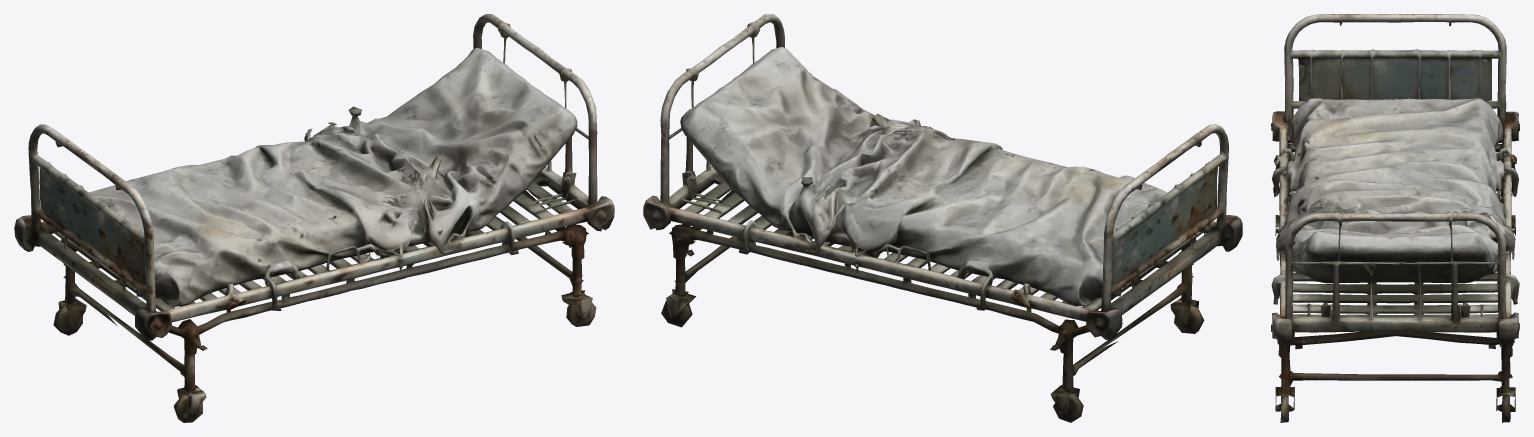
File: hospital_bed.glb
The picture shows the model from 3 angles, left to right: view 1: azimuth 30°, elevation 25°; view 2: azimuth 150°, elevation 25°; view 3: azimuth 270°, elevation 25°; orthographic projection. The views are drawn at different scales.
Parts seen in each view (by area): view 1: tripo_node_f336c468-967c-4fb4-a115-c3fdf5ba2f5e; view 2: tripo_node_f336c468-967c-4fb4-a115-c3fdf5ba2f5e; view 3: tripo_node_f336c468-967c-4fb4-a115-c3fdf5ba2f5e.
Part boxes in pixels (box(x1,y1,x2,y2)): tripo_node_f336c468-967c-4fb4-a115-c3fdf5ba2f5e: box(14, 14, 614, 422); tripo_node_f336c468-967c-4fb4-a115-c3fdf5ba2f5e: box(643, 14, 1242, 422); tripo_node_f336c468-967c-4fb4-a115-c3fdf5ba2f5e: box(1271, 14, 1519, 422).
Size of the model in its own units: 0.9999 by 0.4713 by 0.4949.
1 material, 1 textured.
